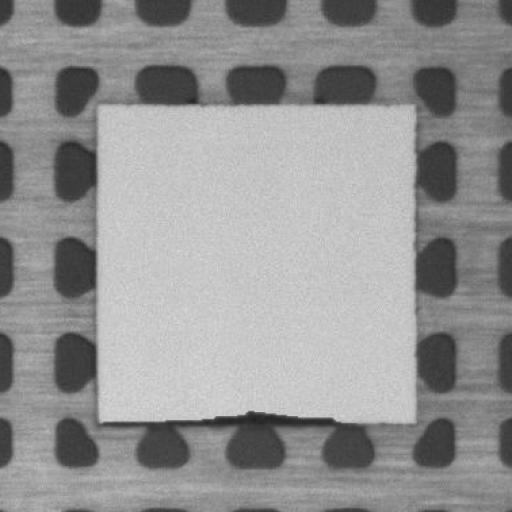DIE_BROKEN: (96, 407, 360, 427)
